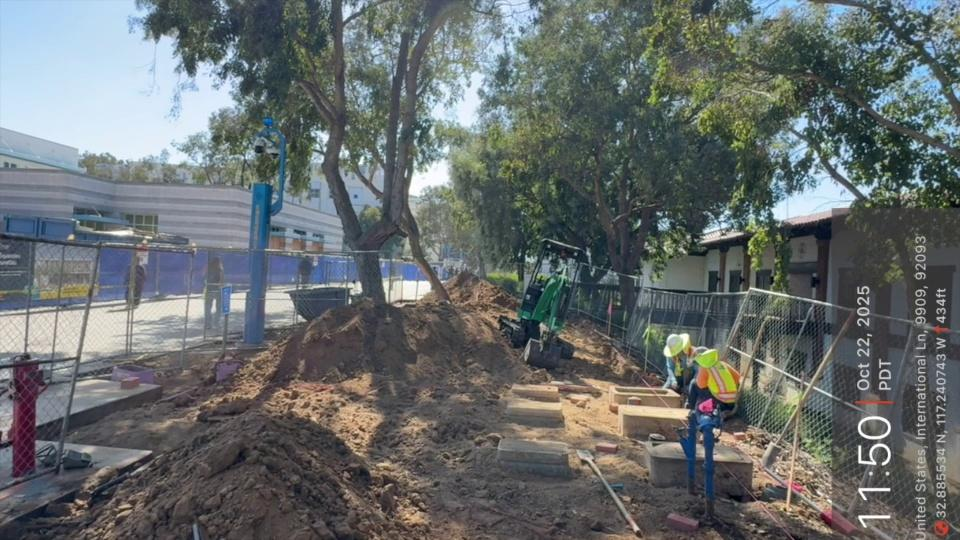Exacavator: (496, 236, 593, 369)
